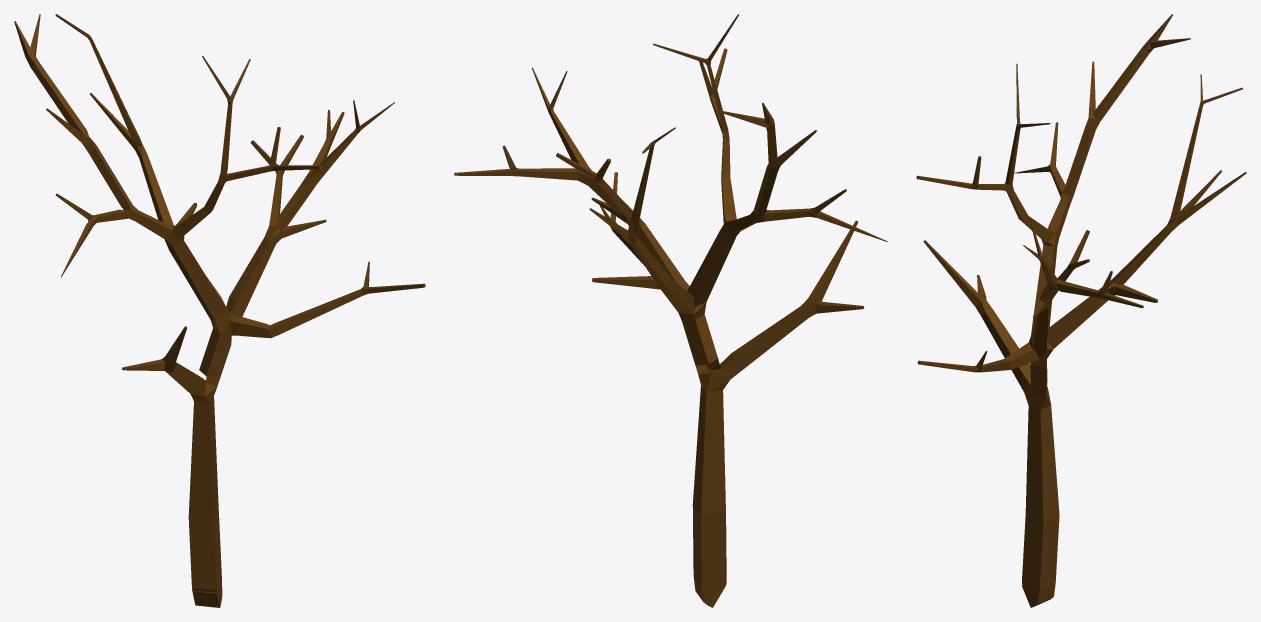
File: dead tree.fbx
3 renders of one model, left to right at view 1: azimuth 30°, elevation 25°; view 2: azimuth 150°, elevation 25°; view 3: azimuth 270°, elevation 25°, orthographic. The views are drawn at different scales.
Parts seen in each view (by area): view 1: Cube; view 2: Cube; view 3: Cube.
Part boxes in pixels (x1,y1,x2,y2): Cube: (14, 14, 425, 607); Cube: (454, 14, 887, 607); Cube: (916, 14, 1246, 607).
Bounding box in the file's own units: 438 × 673 × 378.
